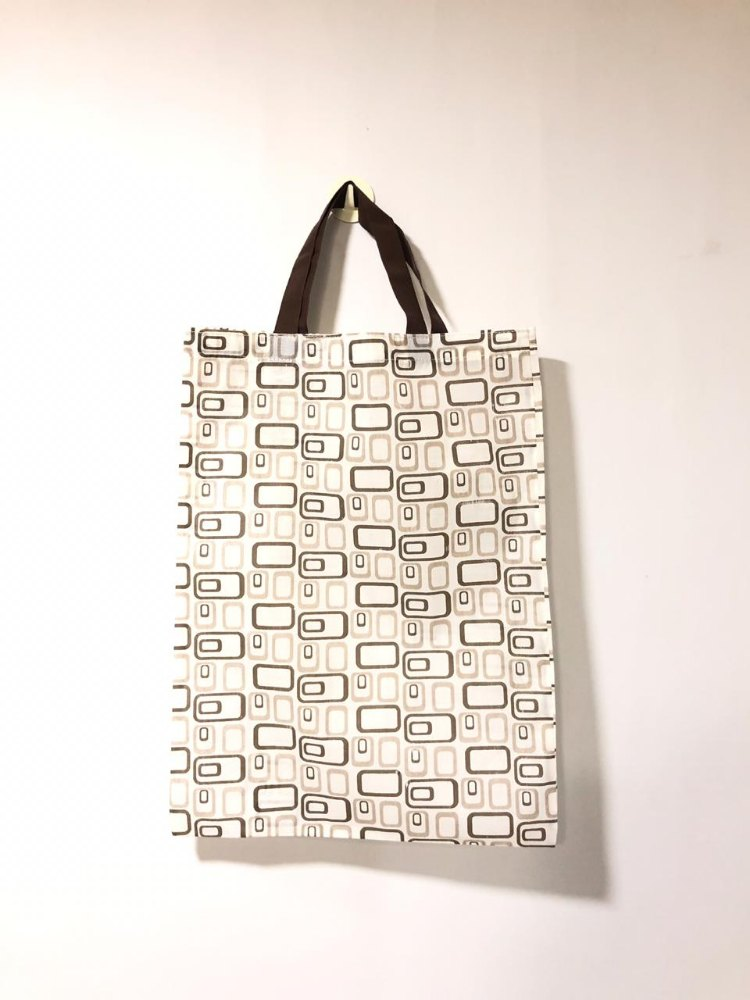clothbag: (166, 181, 561, 847)
